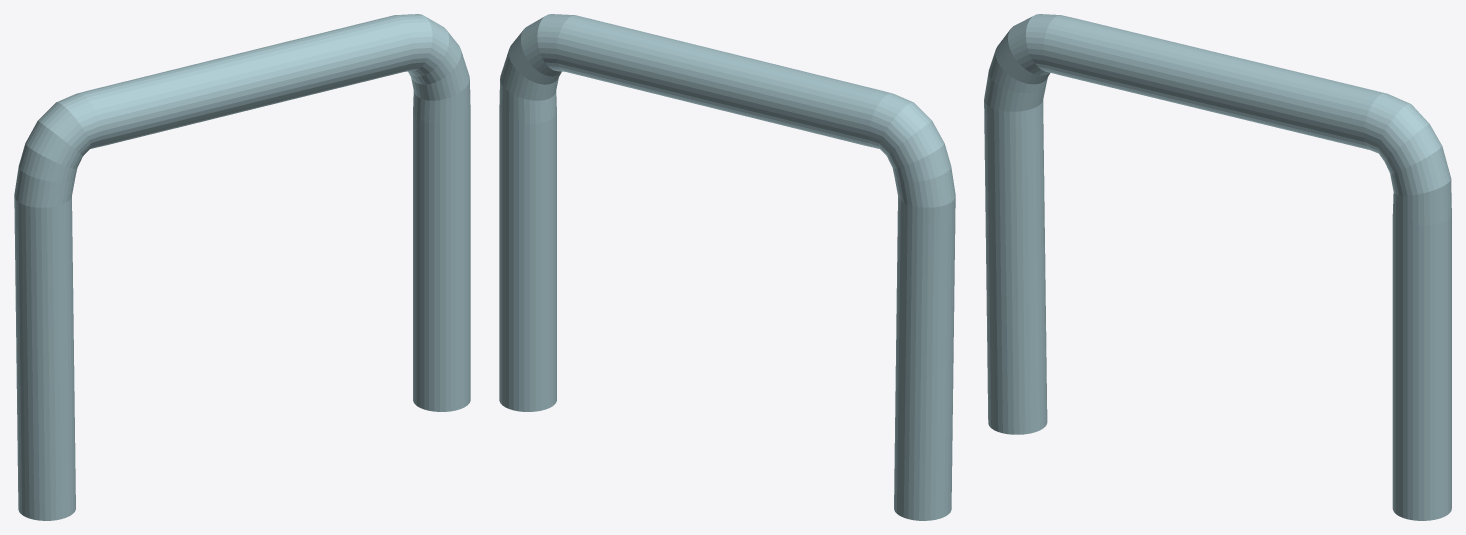
The model's file is Bicycle-bar.fbx.
3 renders of one model, left to right at view 1: azimuth 30°, elevation 25°; view 2: azimuth 150°, elevation 25°; view 3: azimuth 330°, elevation 25°, orthographic. The views are drawn at different scales.
Visible parts, largest first — view 1: Cylinder.009; view 2: Cylinder.009; view 3: Cylinder.009.
Boxes of the visible parts, bbox=[...] form: Cylinder.009: bbox=[14, 14, 470, 520]; Cylinder.009: bbox=[499, 14, 955, 520]; Cylinder.009: bbox=[984, 14, 1451, 520].
Size of the model in its own units: 114 by 98.59 by 12.73.
